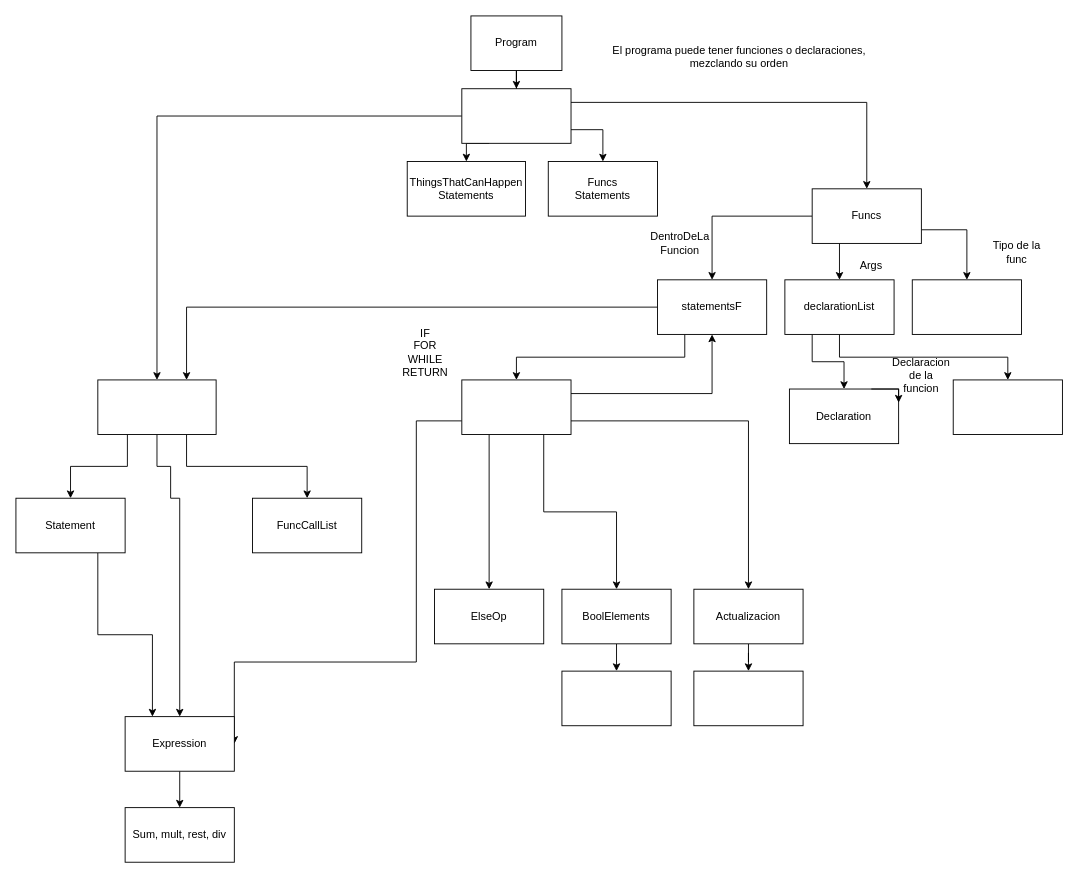
The diagram is 1078 pixels wide and 878 high, and some of its shapes have lost their labels. Each missing label, with the centre of its shape:
++, --, = x: the point at 748,698
BComparator: the point at 616,698
eType: the point at 966,306
Felements: the point at 516,407
LastDeclaration: the point at 1007,407
Statements: the point at 516,115
ThingsThatCanHappen: the point at 156,407
